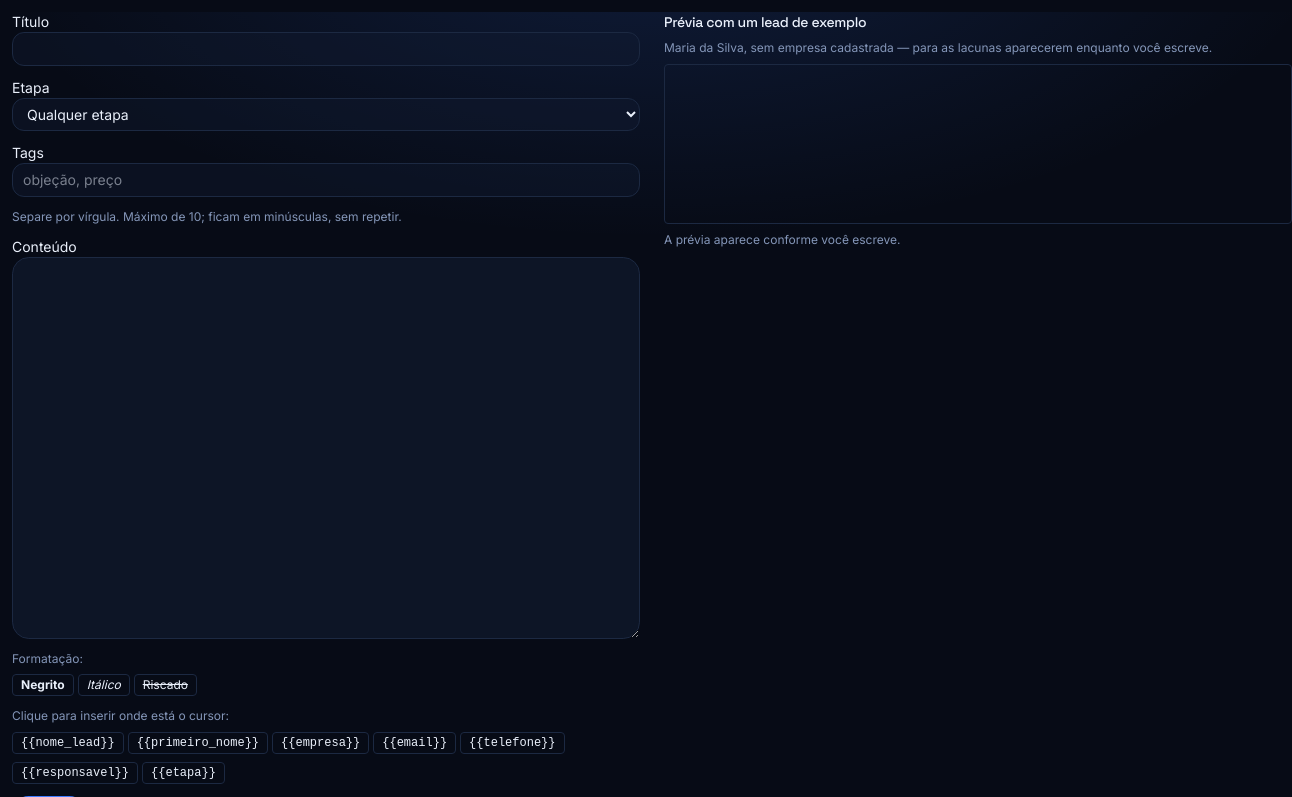
Scenario: Editor de script › Caso 3: clicar na variavel da lista insere {{nome}} na posicao do cursor
Type "Olá , tudo bem?" into the text box labelled "Conteúdo".
click(326, 448); type("Olá , tudo bem?")  # box [12,257,640,639]
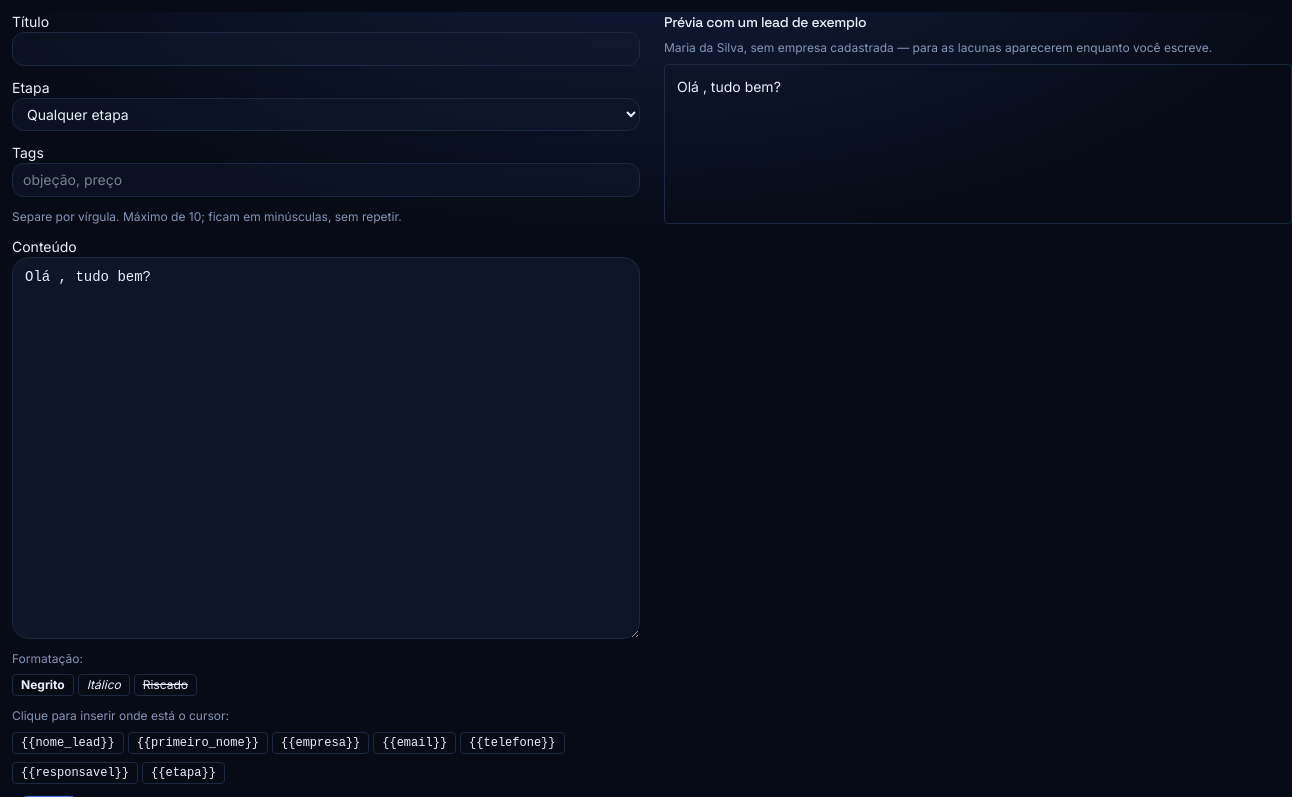
Click the button named "Inserir empresa".
click(321, 743)  # box [272,732,369,754]
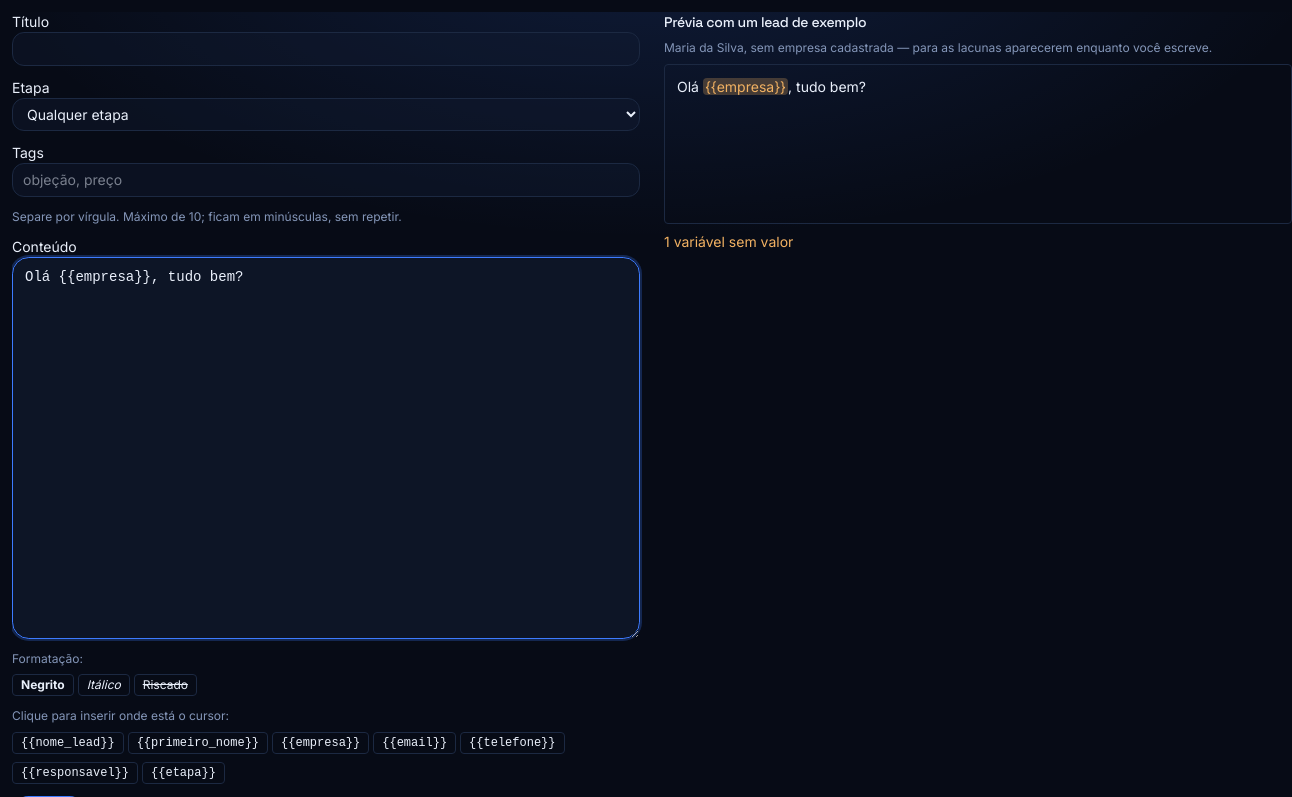
Result: the text box labelled "Conteúdo" holds "Olá {{empresa}}, tudo bem?" at [12,257,640,639]
